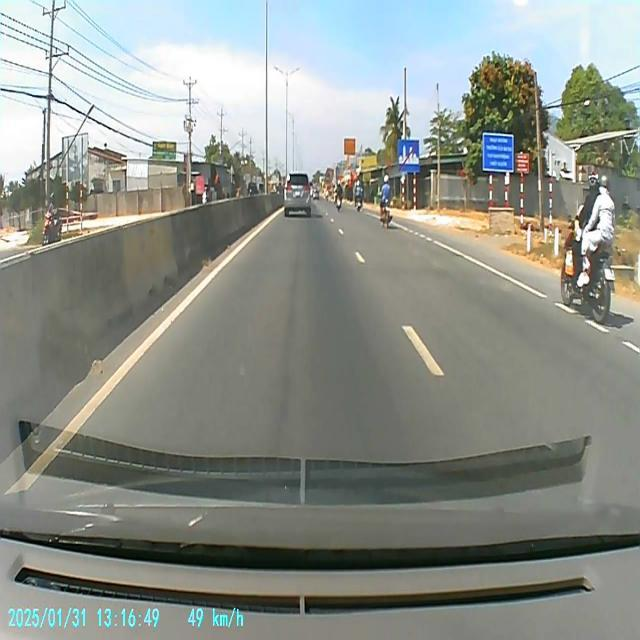421-ket-thuc-khu-dong-dan-cu: (398, 138, 420, 174)
